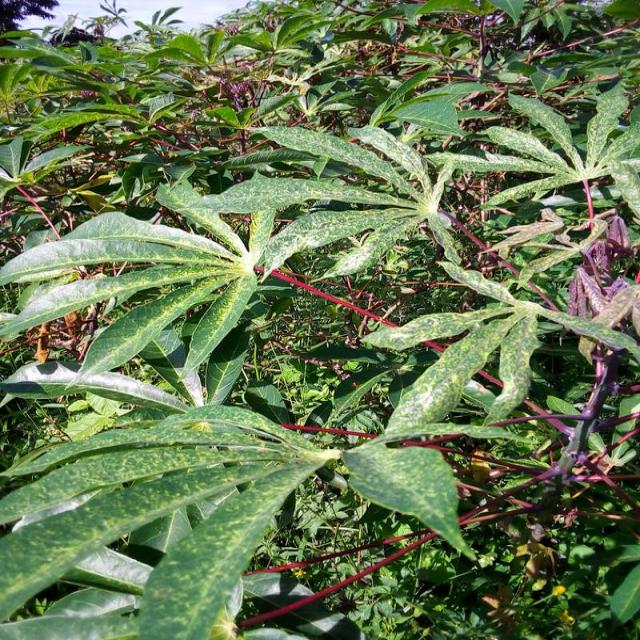cassava leaf: (342, 432, 479, 562)
